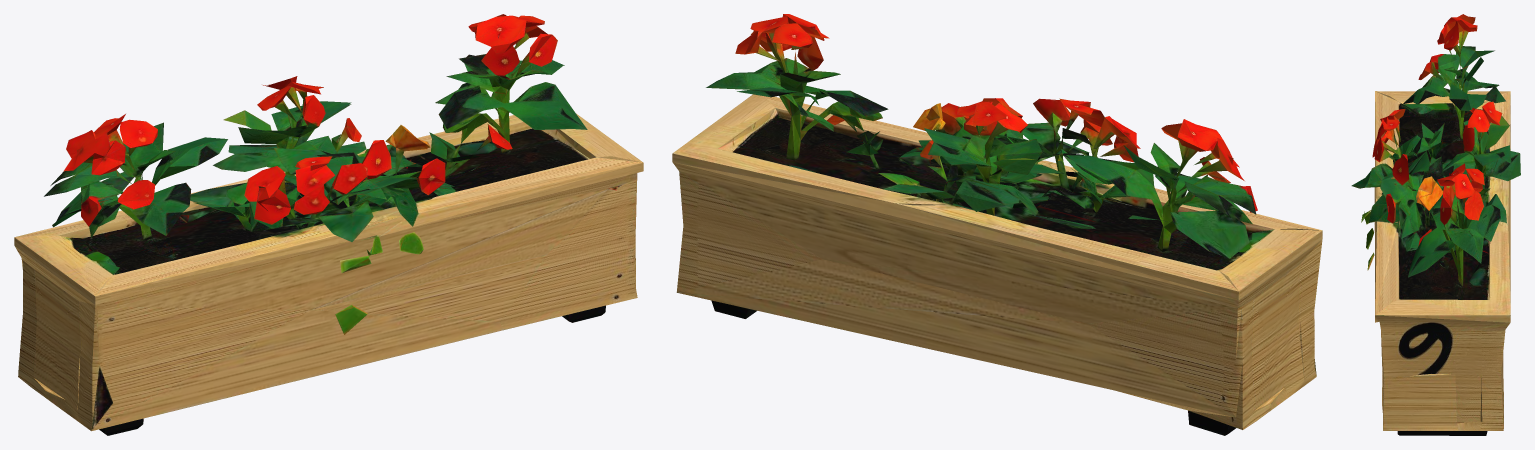
File: flower-box.glb
The picture shows the model from 3 angles, left to right: view 1: azimuth 30°, elevation 25°; view 2: azimuth 150°, elevation 25°; view 3: azimuth 270°, elevation 25°; orthographic projection. The views are drawn at different scales.
Size of the model in its own units: 1 by 0.5 by 0.32.
Materials: 1 (1 with a texture image).
